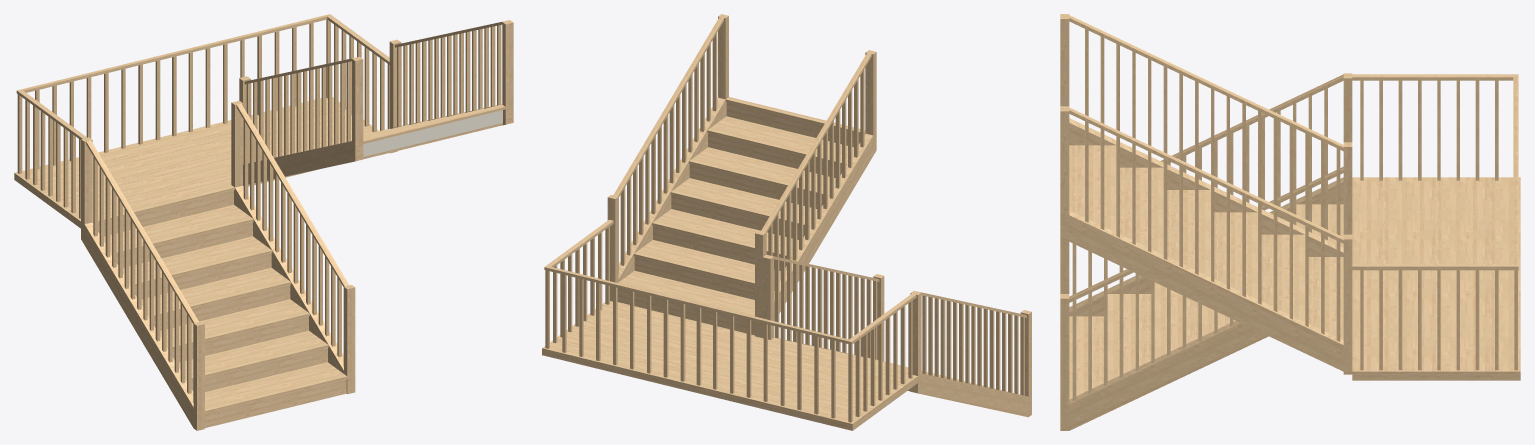
The model's file is sh-contrib-staircase-180-landing.glb.
The picture shows the model from 3 angles, left to right: view 1: azimuth 30°, elevation 25°; view 2: azimuth 150°, elevation 25°; view 3: azimuth 270°, elevation 25°; orthographic projection. The views are drawn at different scales.
Visible parts, largest first — view 1: 8_8, 98_98; view 2: 8_8; view 3: 8_8.
Part boxes in pixels (x1,y1,x2,y2): 8_8: [14, 14, 513, 430]; 98_98: [363, 110, 502, 156]; 8_8: [542, 14, 1031, 430]; 8_8: [1060, 14, 1520, 430].
Size of the model in its own units: 1 by 1 by 1.
2 materials, 1 textured.
